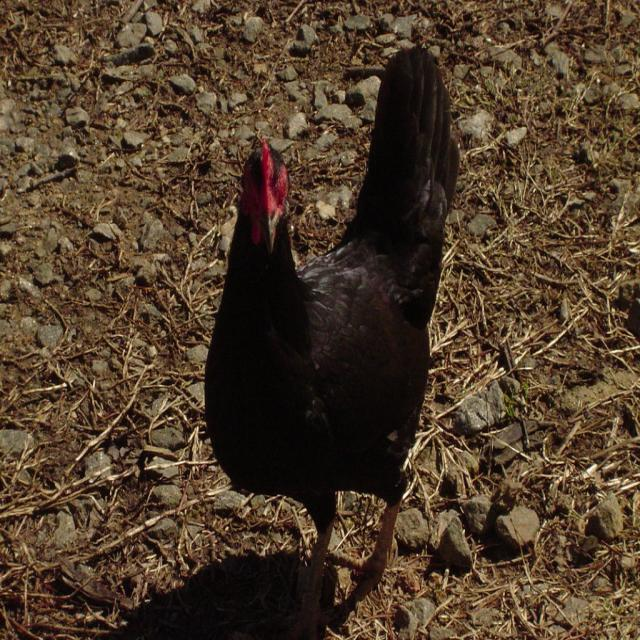Chicken: (217, 58, 460, 636)
